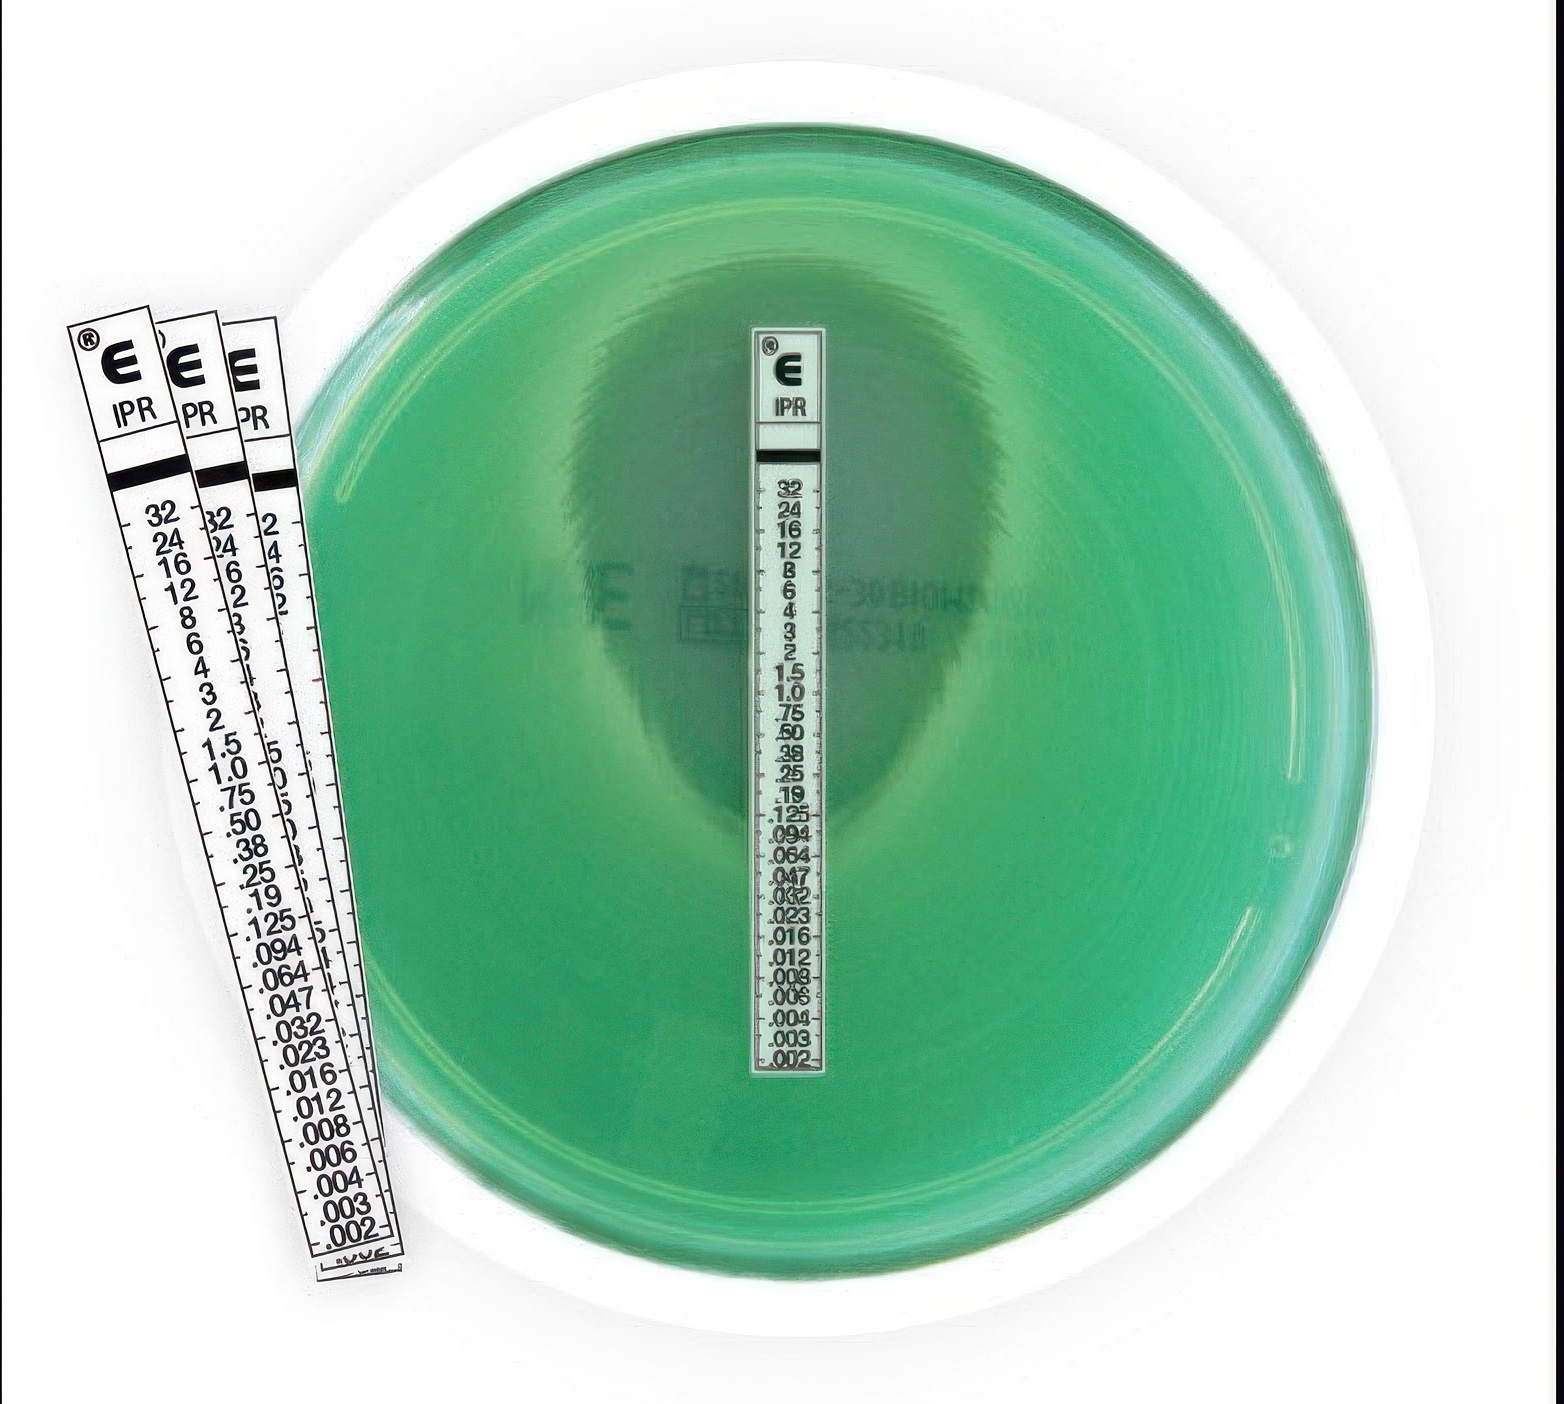line: (66, 304, 395, 1262), (750, 323, 829, 1074)
zone: (578, 256, 991, 817)
